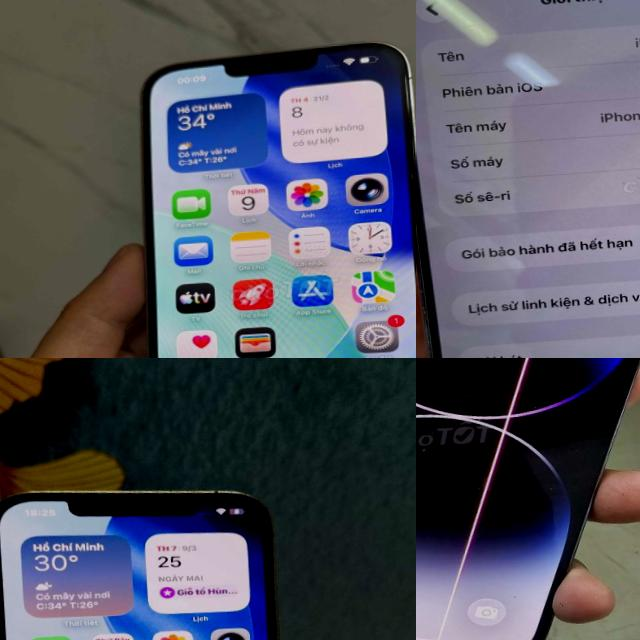gen_12_13: (0, 462, 304, 640)
gen_14: (416, 0, 640, 358), (416, 358, 640, 640)
gen_15: (127, 35, 416, 358)
